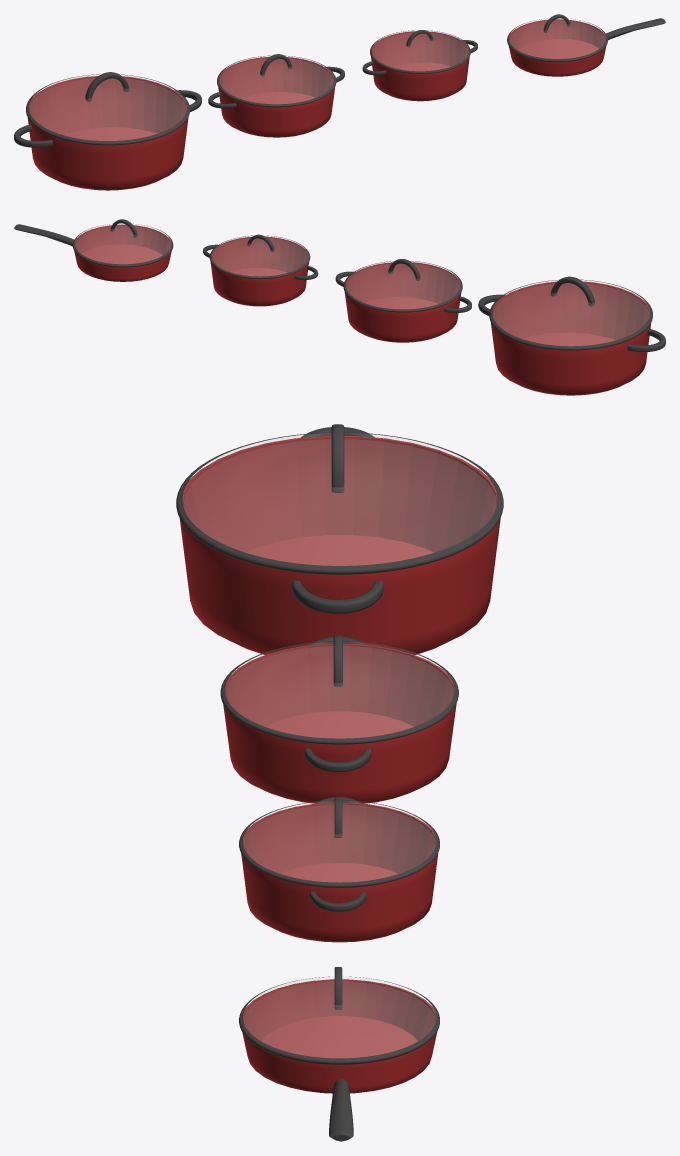
3 renders of one model, top to bottom at view 1: azimuth 30°, elevation 25°; view 2: azimuth 150°, elevation 25°; view 3: azimuth 270°, elevation 25°, orthographic. The views are drawn at different scales.
Parts seen in each view (by area): view 1: ChamferCyl001, ChamferCyl006, ChamferCyl008, ChamferCyl010, ChamferCyl007, ChamferCyl011, ChamferCyl012, ChamferCyl009, Arc001, Line001, Arc003; view 2: ChamferCyl001, ChamferCyl006, ChamferCyl008, ChamferCyl010, ChamferCyl007, ChamferCyl011, ChamferCyl012, ChamferCyl009, Arc001, Line001, Arc003; view 3: ChamferCyl001, ChamferCyl006, ChamferCyl008, ChamferCyl010, ChamferCyl007, ChamferCyl011, ChamferCyl012, ChamferCyl009, Arc002, Line001.
Part boxes in pixels (bbox=[...]): ChamferCyl001: bbox=[27, 76, 188, 190]; ChamferCyl006: bbox=[26, 74, 189, 145]; ChamferCyl008: bbox=[218, 56, 334, 137]; ChamferCyl010: bbox=[371, 31, 469, 101]; ChamferCyl007: bbox=[217, 55, 336, 107]; ChamferCyl011: bbox=[509, 19, 606, 76]; ChamferCyl012: bbox=[507, 18, 607, 62]; ChamferCyl009: bbox=[370, 30, 470, 73]; Arc001: bbox=[85, 72, 129, 101]; Line001: bbox=[606, 18, 665, 40]; Arc003: bbox=[14, 124, 52, 147]; ChamferCyl001: bbox=[490, 281, 650, 395]; ChamferCyl006: bbox=[489, 279, 652, 350]; ChamferCyl008: bbox=[344, 262, 461, 342]; ChamferCyl010: bbox=[210, 236, 308, 306]; ChamferCyl007: bbox=[343, 261, 462, 312]; ChamferCyl011: bbox=[74, 224, 171, 281]; ChamferCyl012: bbox=[73, 223, 173, 267]; ChamferCyl009: bbox=[209, 235, 310, 278]; Arc001: bbox=[550, 276, 594, 306]; Line001: bbox=[14, 224, 73, 246]; Arc003: bbox=[627, 329, 665, 351]; ChamferCyl001: bbox=[179, 436, 500, 654]; ChamferCyl006: bbox=[176, 432, 503, 574]; ChamferCyl008: bbox=[223, 643, 456, 803]; ChamferCyl010: bbox=[241, 802, 438, 942]; ChamferCyl007: bbox=[220, 641, 458, 744]; ChamferCyl011: bbox=[242, 979, 437, 1093]; ChamferCyl012: bbox=[239, 976, 439, 1064]; ChamferCyl009: bbox=[239, 800, 439, 887]; Arc002: bbox=[292, 580, 383, 613]; Line001: bbox=[329, 1079, 353, 1141].
Bounding box in the file's own units: 131 × 18.8 × 28.72.
